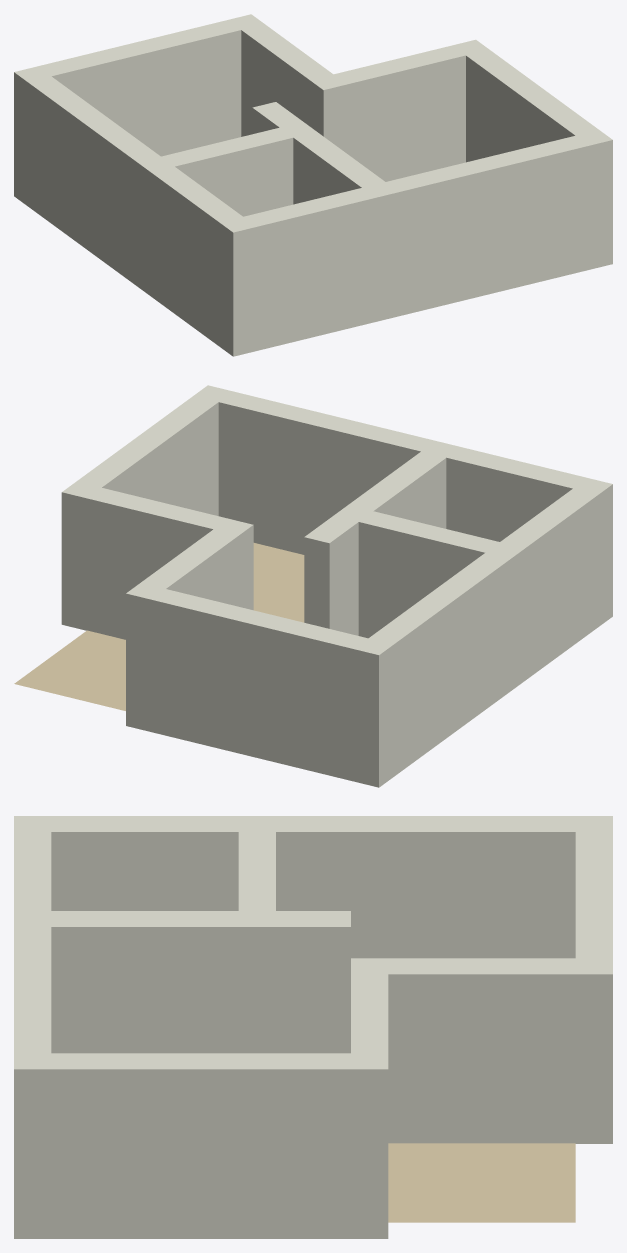
File: 03e72848-8c96-4a94-9cd1-1c8fd23ede7a_model.glb
3 views of the same model, one above another, from view 1: azimuth 30°, elevation 25°; view 2: azimuth 150°, elevation 25°; view 3: azimuth 270°, elevation 25° (orthographic). The views are drawn at different scales.
Parts seen in each view (by area): view 1: wall_0, wall_5, wall_4, wall_2, wall_1, wall_3, wall_7, wall_6; view 2: wall_4, wall_5, wall_0, wall_2, wall_1, wall_6, wall_7, wall_3, room_3, room_1; view 3: wall_1, wall_5, wall_6, wall_3, wall_0, room_3, wall_4, wall_2, wall_7.
Part boxes in pixels (x1=…): wall_0: x1=219, y1=130, x2=612, y2=356; wall_5: x1=14, y1=71, x2=256, y2=356; wall_4: x1=14, y1=15, x2=263, y2=205; wall_2: x1=321, y1=40, x2=488, y2=181; wall_1: x1=452, y1=39, x2=612, y2=268; wall_3: x1=228, y1=14, x2=347, y2=153; wall_7: x1=161, y1=127, x2=293, y2=216; wall_6: x1=252, y1=102, x2=384, y2=204; wall_4: x1=126, y1=587, x2=393, y2=787; wall_5: x1=354, y1=478, x2=612, y2=787; wall_0: x1=193, y1=385, x2=612, y2=619; wall_2: x1=61, y1=481, x2=253, y2=639; wall_1: x1=61, y1=385, x2=232, y2=630; wall_6: x1=304, y1=451, x2=446, y2=635; wall_7: x1=358, y1=511, x2=499, y2=638; wall_3: x1=126, y1=523, x2=252, y2=731; room_3: x1=14, y1=630, x2=125, y2=710; room_1: x1=253, y1=543, x2=304, y2=622; wall_1: x1=14, y1=1053, x2=388, y2=1238; wall_5: x1=14, y1=816, x2=612, y2=958; wall_6: x1=51, y1=911, x2=350, y2=1053; wall_3: x1=351, y1=958, x2=612, y2=1143; wall_0: x1=14, y1=816, x2=51, y2=1238; room_3: x1=388, y1=1143, x2=575, y2=1222; wall_4: x1=575, y1=816, x2=612, y2=1143; wall_2: x1=351, y1=958, x2=388, y2=1238; wall_7: x1=238, y1=832, x2=275, y2=910.
Size of the model in its own units: 9.6 by 3 by 9.6.
